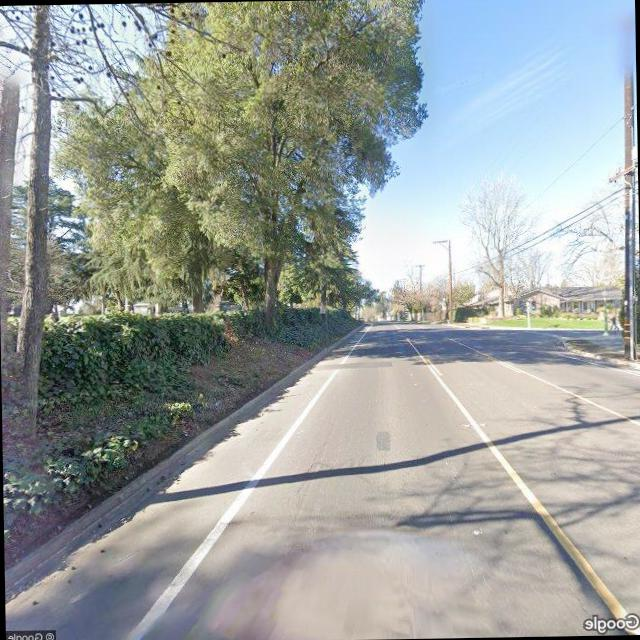pothole: (286, 422, 342, 516)
